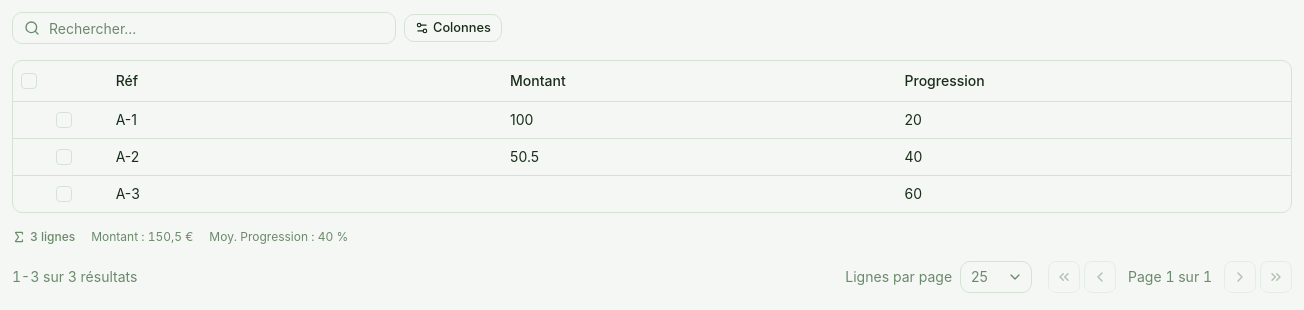
DataTableAggregateBar (via DataTable) › bascule sur la sélection quand des lignes sont cochées
Click the checkbox named "Sélectionner la ligne" next to "A-2" at (64,156), box [56,148,72,164]
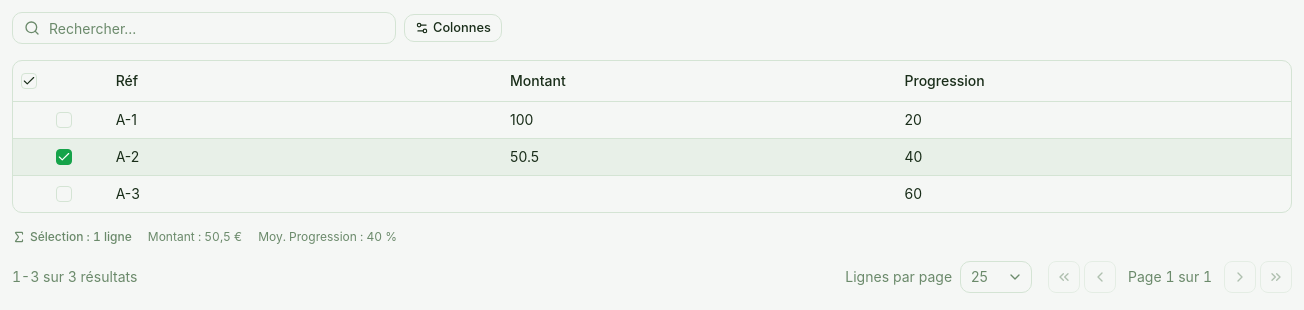
expect the element named "Agrégats des colonnes numériques" shows "Sélection : 1 ligne": met, box [30,228,132,244]
